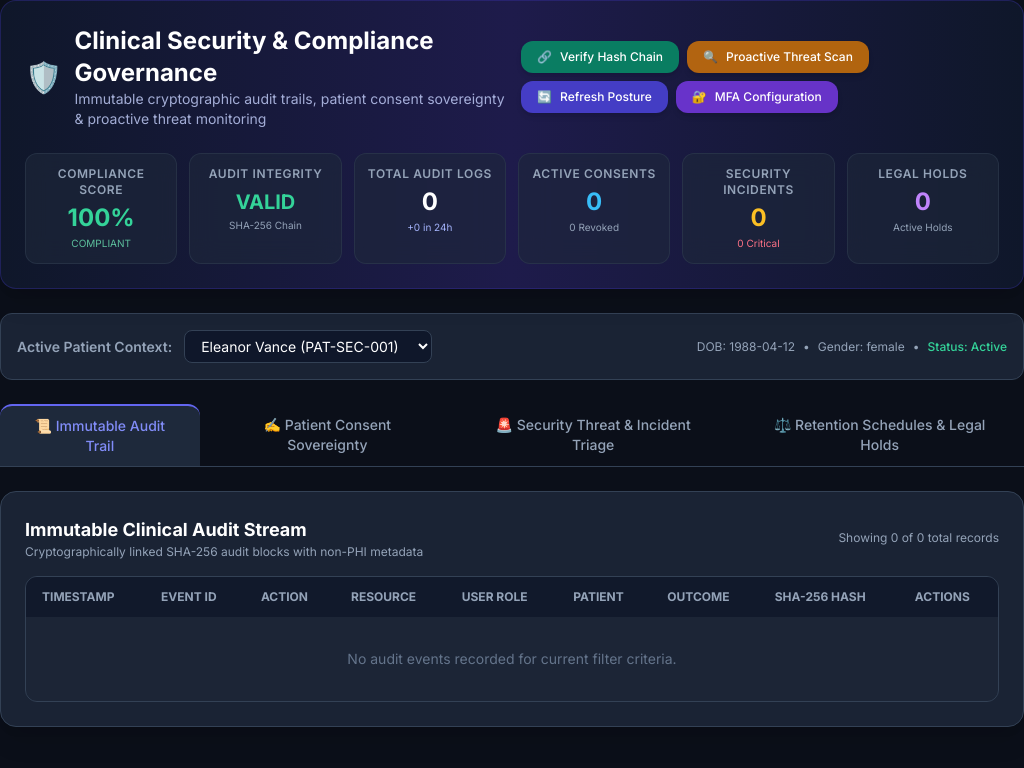
Test: SecurityComplianceWorkspace Component › navigates to Patient Consent tab and evaluates policy simulation
This screenshot has width=1024, height=768.
Click the button with test id "tab-consent". click: (327, 435)
box: [204, 404, 451, 466]
(page scrolled)
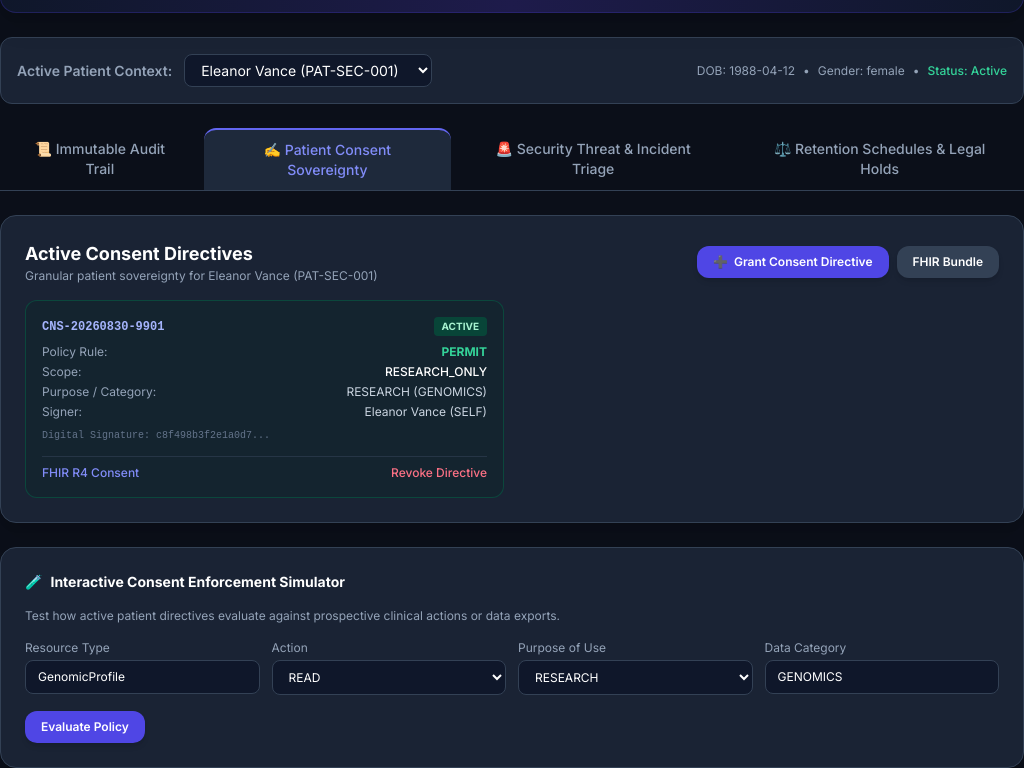
Expected: the heading "Active Consent Directives" is shown, [25, 243, 253, 264]
Expected: the text "CNS-20260830-9901" is shown, [42, 318, 164, 334]
// Test simulator
Click the button with test id "verify-policy-btn". click: (85, 727)
box: [25, 711, 145, 743]
(page scrolled)
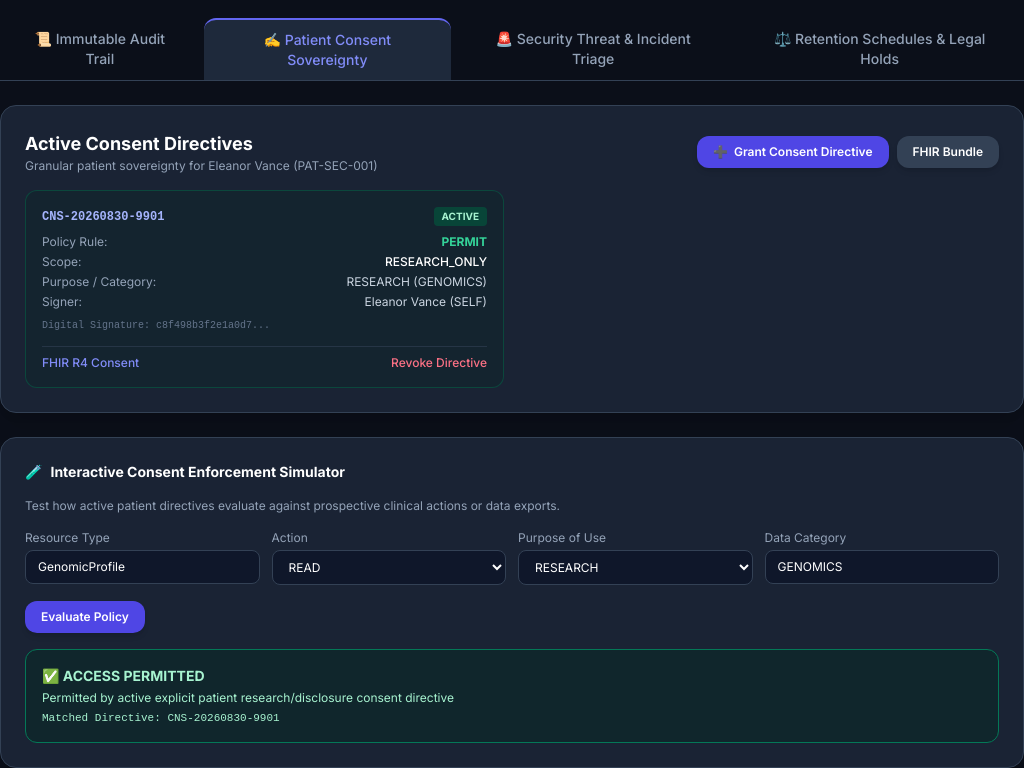
Expected: the text "✅ ACCESS PERMITTED" is shown, [42, 667, 205, 684]
